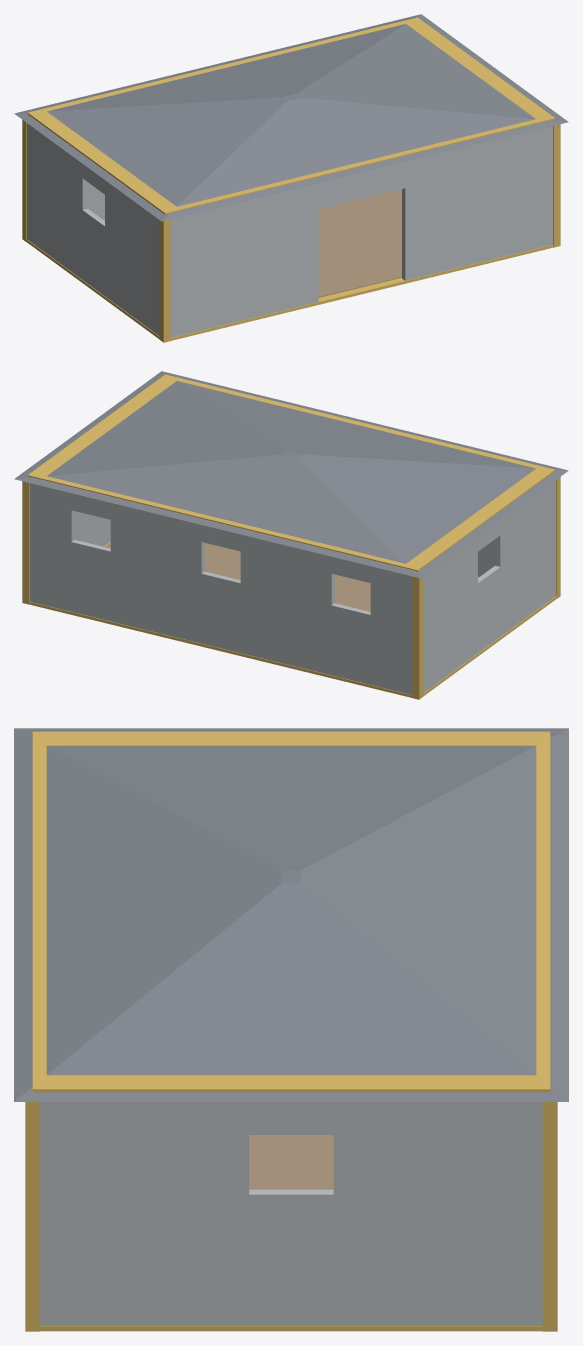
The model's file is warehouse.glb.
3 views of the same model, one above another, from view 1: azimuth 30°, elevation 25°; view 2: azimuth 150°, elevation 25°; view 3: azimuth 270°, elevation 25° (orthographic). The views are drawn at different scales.
Parts seen in each view (by area): view 1: warehouse; view 2: warehouse; view 3: warehouse.
Boxes of the visible parts, box(x1,y1,x2,y2) form: warehouse: box(14, 14, 568, 342); warehouse: box(14, 371, 568, 699); warehouse: box(14, 728, 568, 1331).
Bounding box in the file's own units: 18.8 × 6.4 × 11.8.
